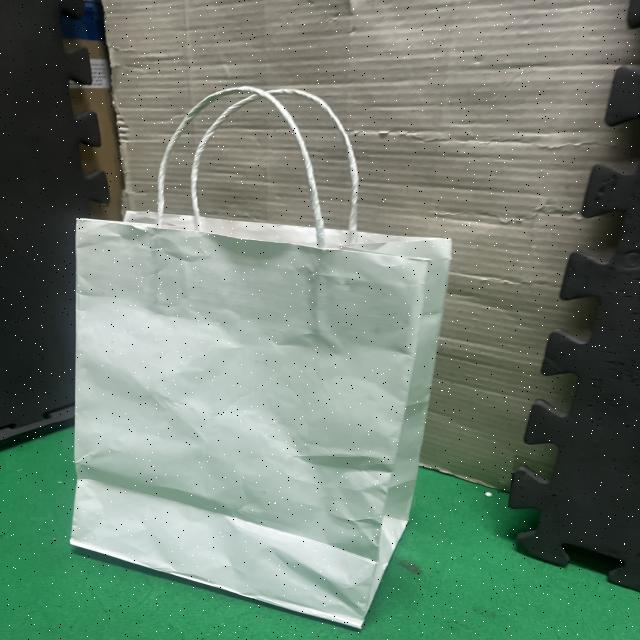paper bag: (26, 66, 496, 640)
